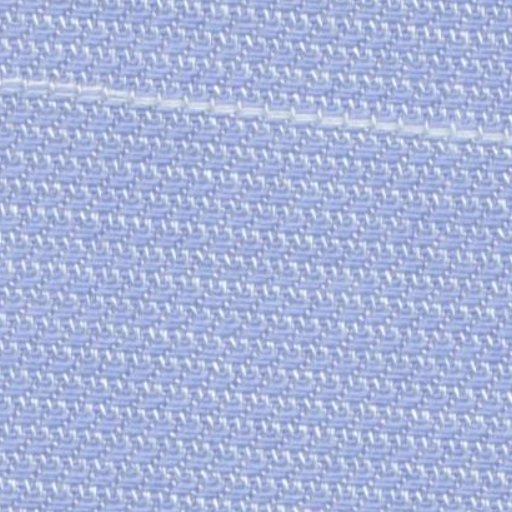TuoSha: (12, 59, 497, 166)
